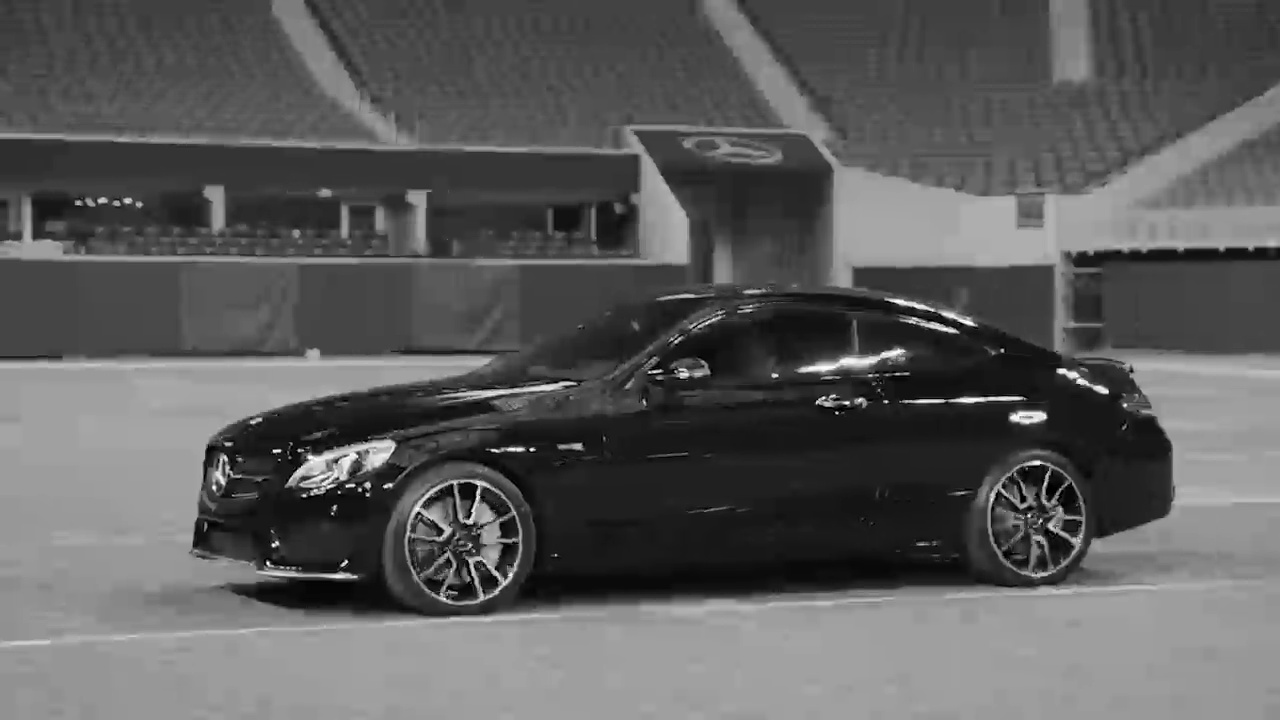car: (186, 274, 1181, 593)
